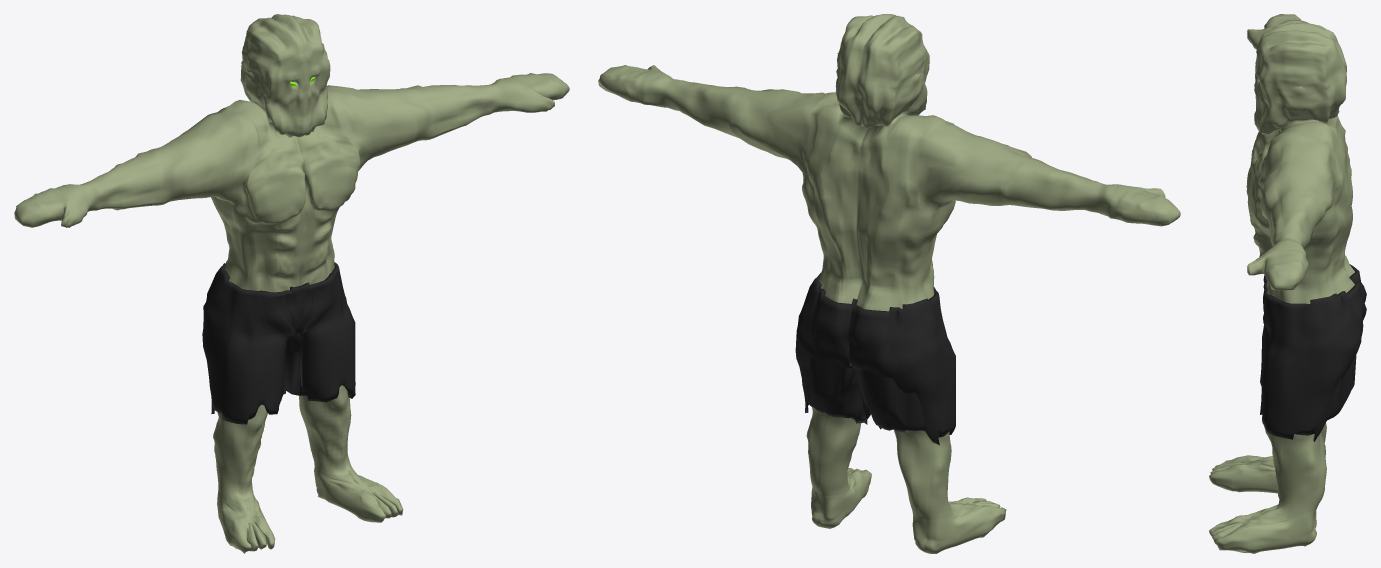
The model's file is Boss.fbx.
The picture shows the model from 3 angles, left to right: view 1: azimuth 30°, elevation 25°; view 2: azimuth 150°, elevation 25°; view 3: azimuth 270°, elevation 25°; orthographic projection. The views are drawn at different scales.
Parts seen in each view (by area): view 1: person.001; view 2: person.001; view 3: person.001.
Part boxes in pixels (x1,y1,x2,y2): person.001: (14, 14, 569, 553); person.001: (598, 14, 1180, 553); person.001: (1209, 14, 1366, 553).
Size of the model in its own units: 404 by 347 by 101.
